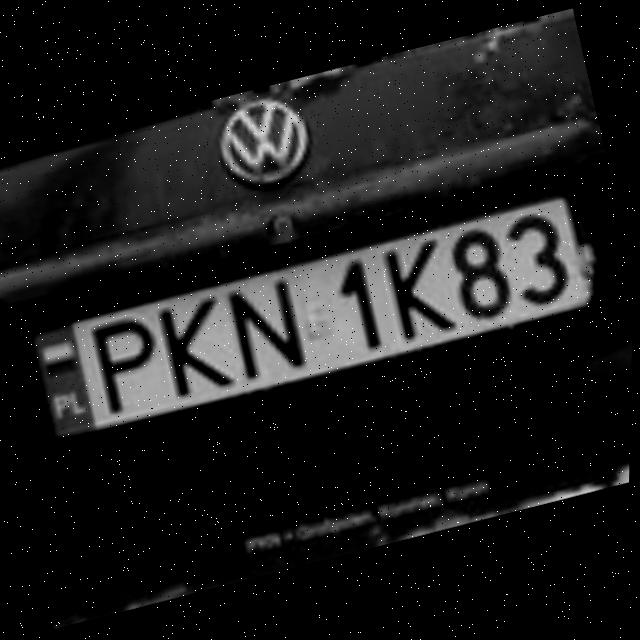license-plates: (33, 197, 595, 439)
